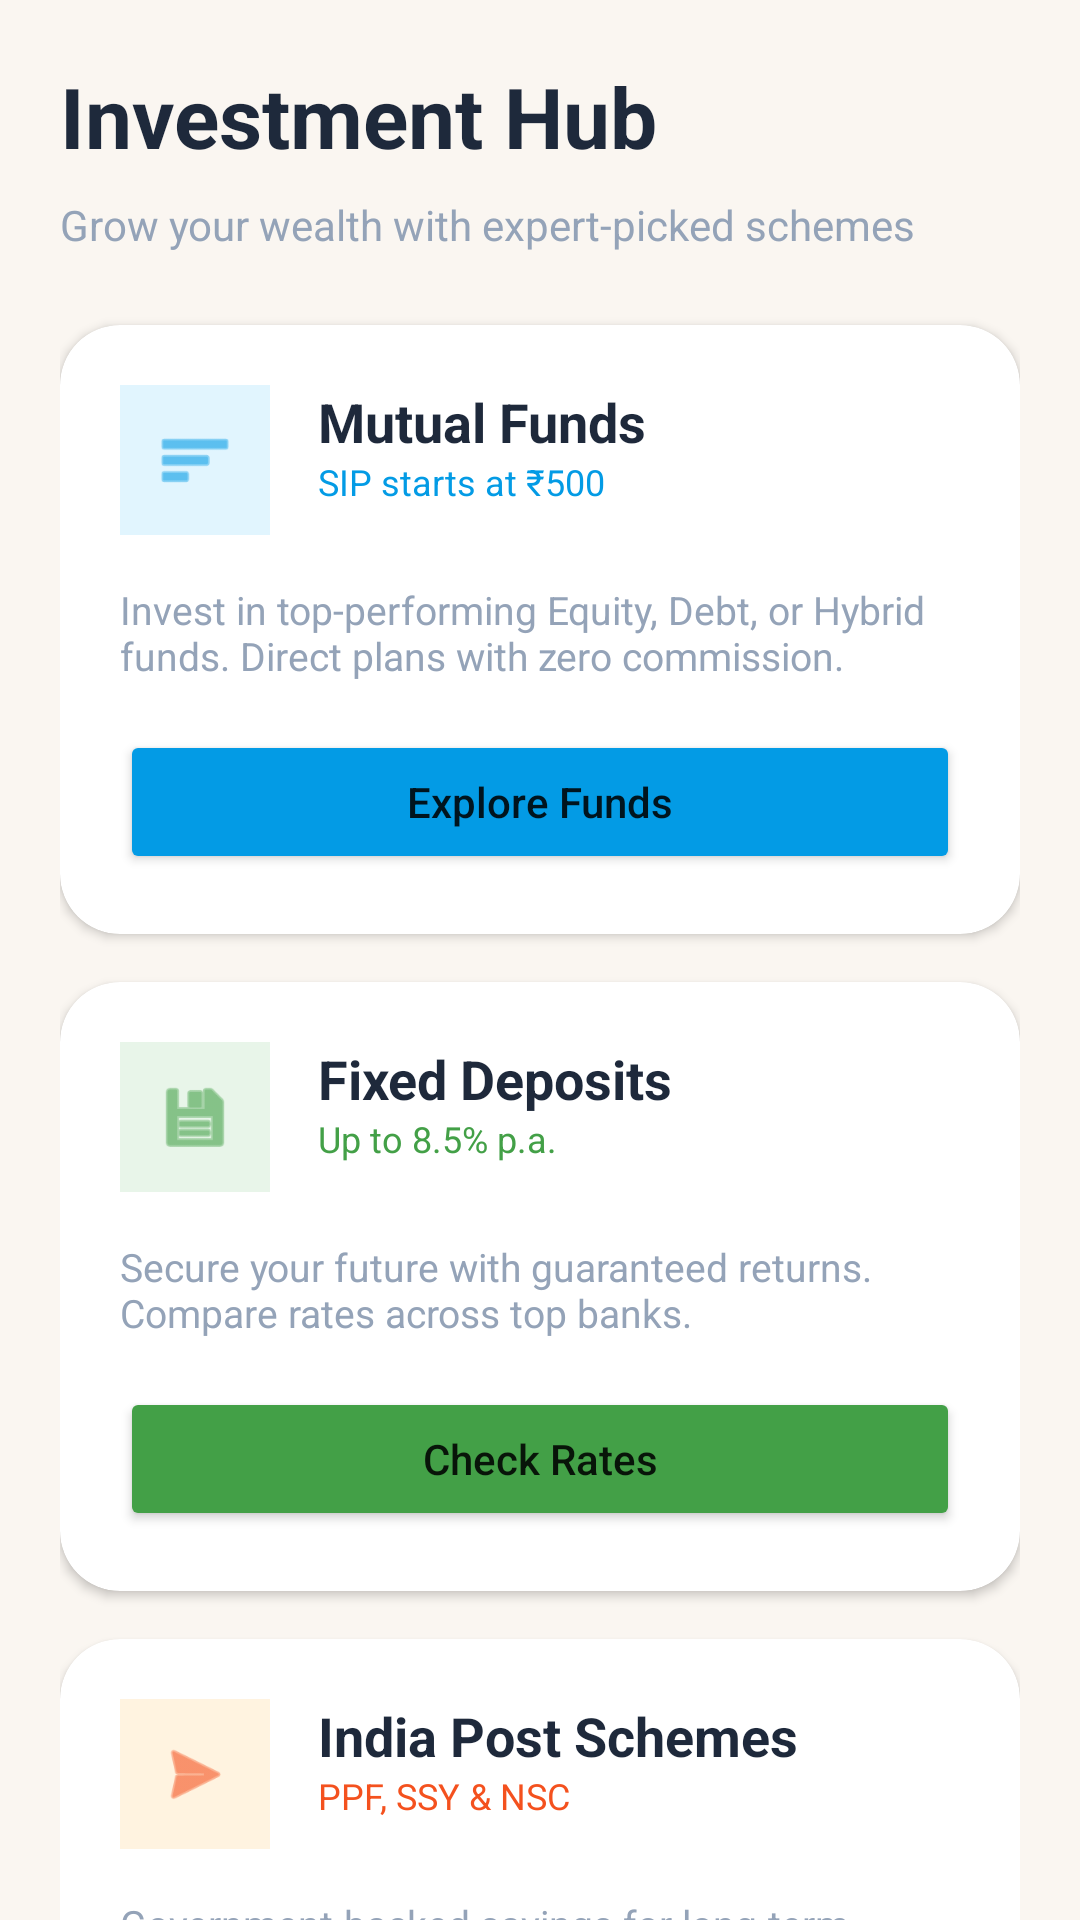

Where to tap for icons on this 1080x1920 app screen, as (x,y):
save: (195,1117)
send: (195,1774)
sort by size: (195,460)
